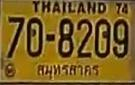0: (26, 17, 42, 56), (94, 18, 110, 57)
2: (76, 19, 92, 58)
7: (7, 16, 24, 57)
8: (57, 18, 73, 57)
9: (112, 18, 128, 57)
SKN: (34, 60, 101, 80)
